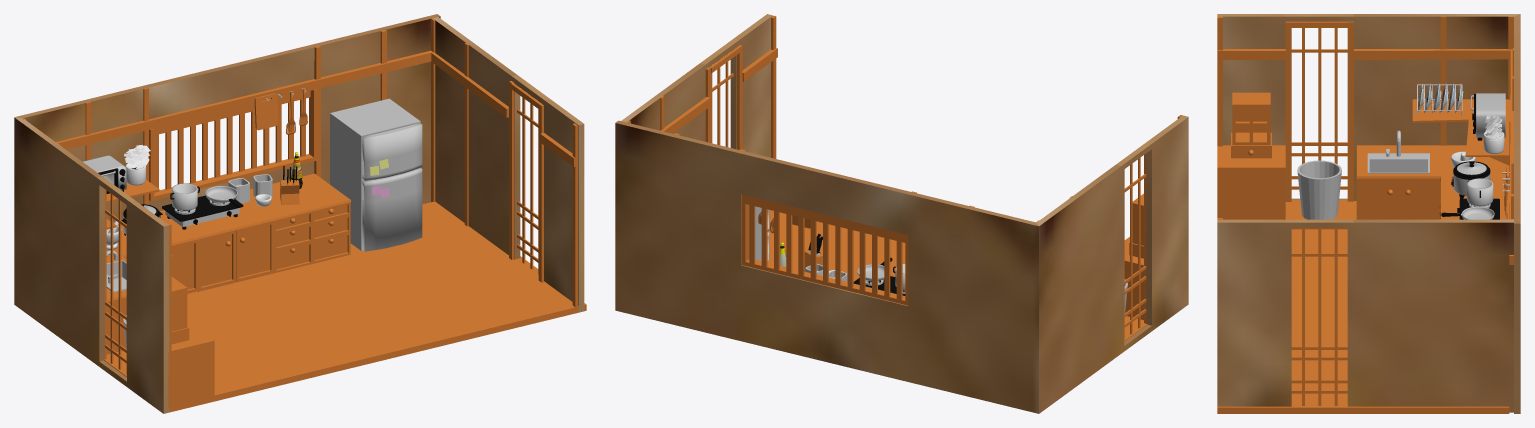
File: KitchenPreEx.fbx
3 renders of one model, left to right at view 1: azimuth 30°, elevation 25°; view 2: azimuth 150°, elevation 25°; view 3: azimuth 270°, elevation 25°, orthographic.
Parts seen in each view (by area): view 1: Cube.002, Cube.010, Cube.029, Cube, Cube.007, Cube.019, Cube.003, Cube.013, Cube.015, Cube.009, Cube.035, Cube.016 (+10 smaller); view 2: Cube.002, Cube.029, Cube.013, Cube.019, Cube.010, Cube.016, Cube.012, Cube.027, Cube.009, Cube.034, Cube.007; view 3: Cube.029, Cube.002, Cube.010, Cube.007, Cube.009, Cube, Cube.034, Cube.005, Cube.012, Cube.006, Cube.001, Cube.014 (+8 smaller).
Boxes of the visible parts, <box> form: Cube.002: <box>14,14,440,413</box>; Cube.010: <box>104,201,586,412</box>; Cube.029: <box>430,16,584,312</box>; Cube: <box>106,173,351,354</box>; Cube.007: <box>22,30,432,359</box>; Cube.019: <box>431,18,577,307</box>; Cube.003: <box>330,98,420,250</box>; Cube.013: <box>154,99,305,192</box>; Cube.015: <box>362,168,422,251</box>; Cube.009: <box>168,276,214,406</box>; Cube.035: <box>362,122,422,180</box>; Cube.016: <box>149,89,317,200</box>; Cube.002: <box>615,115,1188,413</box>; Cube.029: <box>621,14,772,157</box>; Cube.013: <box>749,205,902,299</box>; Cube.019: <box>626,15,777,158</box>; Cube.010: <box>768,210,1147,341</box>; Cube.016: <box>742,194,908,305</box>; Cube.012: <box>1124,157,1146,338</box>; Cube.027: <box>745,195,905,242</box>; Cube.009: <box>1124,193,1143,320</box>; Cube.034: <box>711,61,733,146</box>; Cube.007: <box>674,115,1182,323</box>; Cube.029: <box>1217,219,1518,412</box>; Cube.002: <box>1217,14,1520,413</box>; Cube.010: <box>1217,200,1509,413</box>; Cube.007: <box>1217,16,1514,264</box>; Cube.009: <box>1217,92,1285,219</box>; Cube: <box>1356,145,1509,219</box>; Cube.034: <box>1291,228,1347,405</box>; Cube.005: <box>1297,160,1341,219</box>; Cube.012: <box>1291,28,1347,189</box>; Cube.006: <box>1412,99,1510,165</box>; Cube.001: <box>1367,130,1429,173</box>; Cube.014: <box>1473,93,1505,140</box>.
Size of the model in its own units: 727 by 307 by 444.
